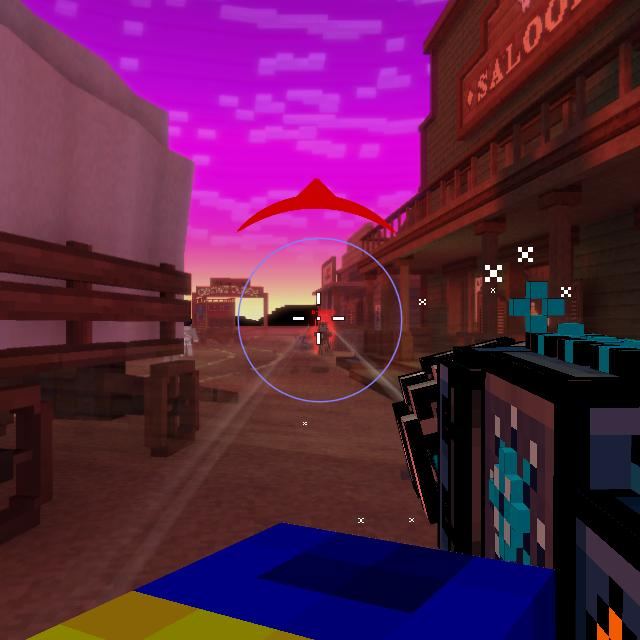Enemy: (313, 322, 332, 354)
